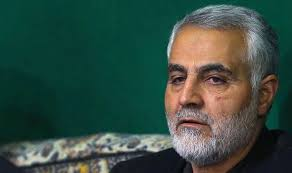middle_eastern_male: (167, 18, 264, 153)
